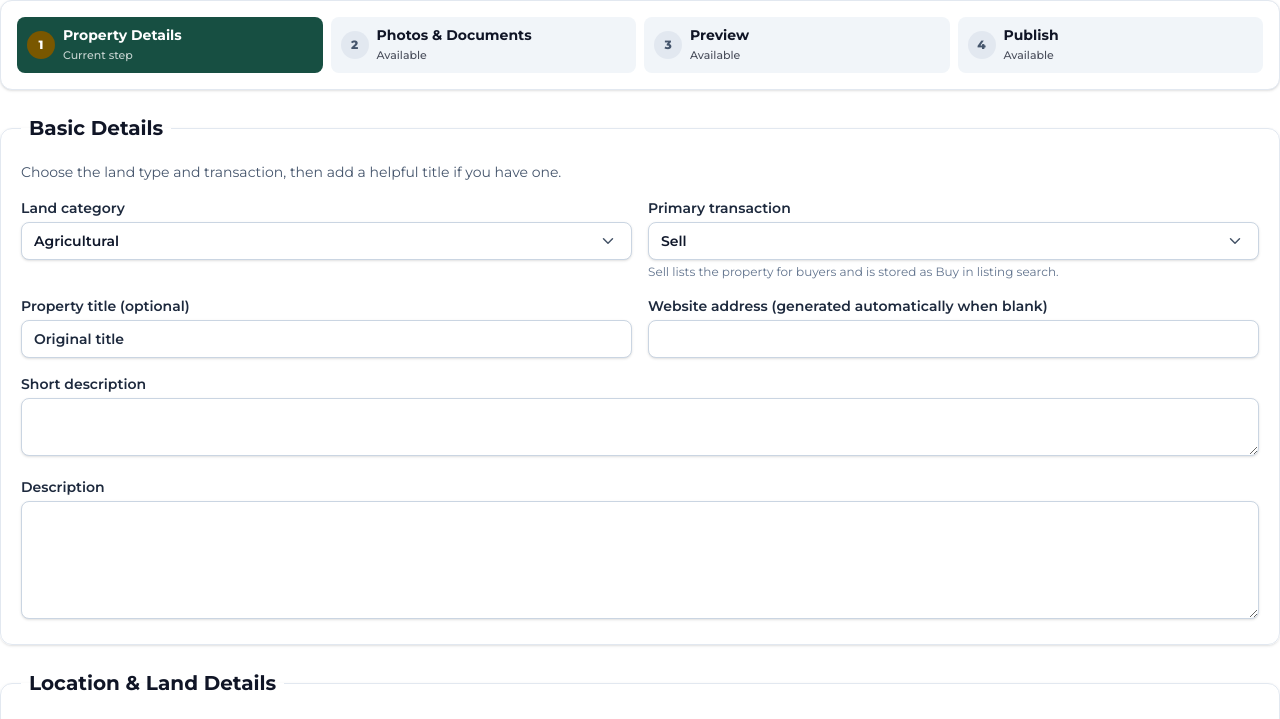
Test case: PropertyDraftForm › blocks workflow section navigation while the edit form is dirty
Type " changed" into the field labelled "Property title (optional)" at (326, 339), box x1=21 y1=320 x2=632 y2=358
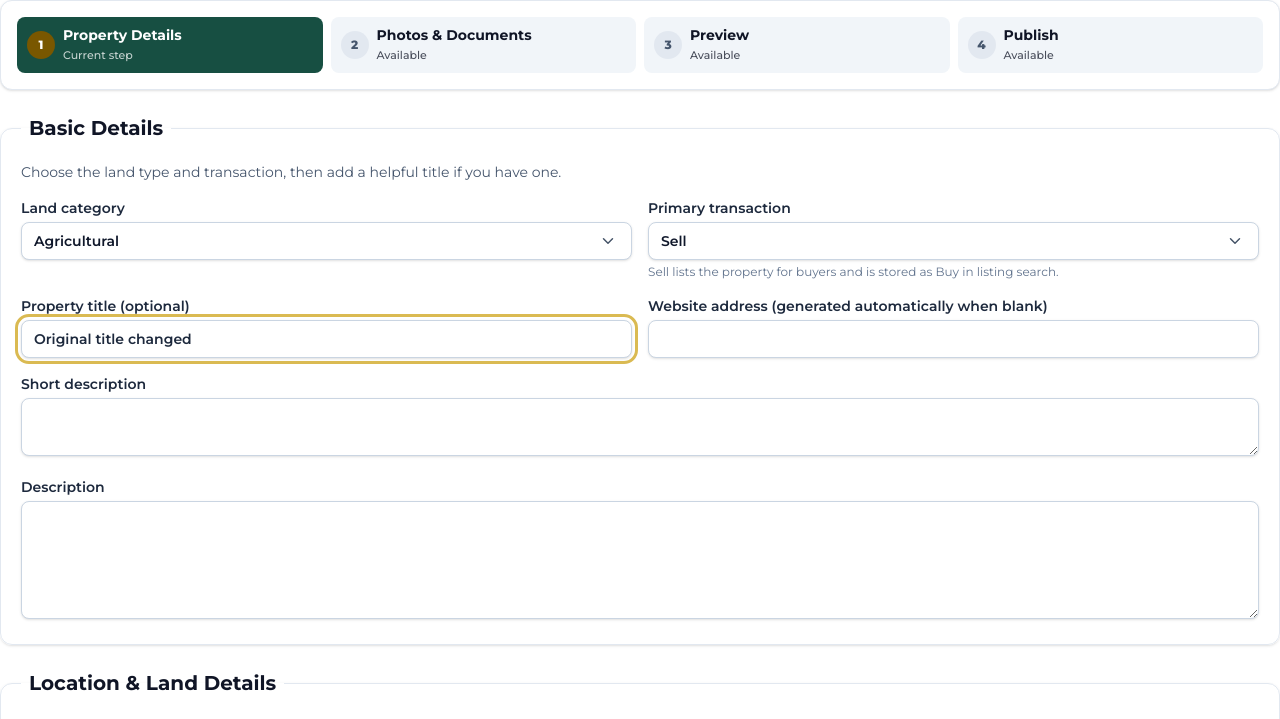
Click the link named "Photos & DocumentsAvailable" at (483, 45), box x1=330 y1=17 x2=636 y2=73
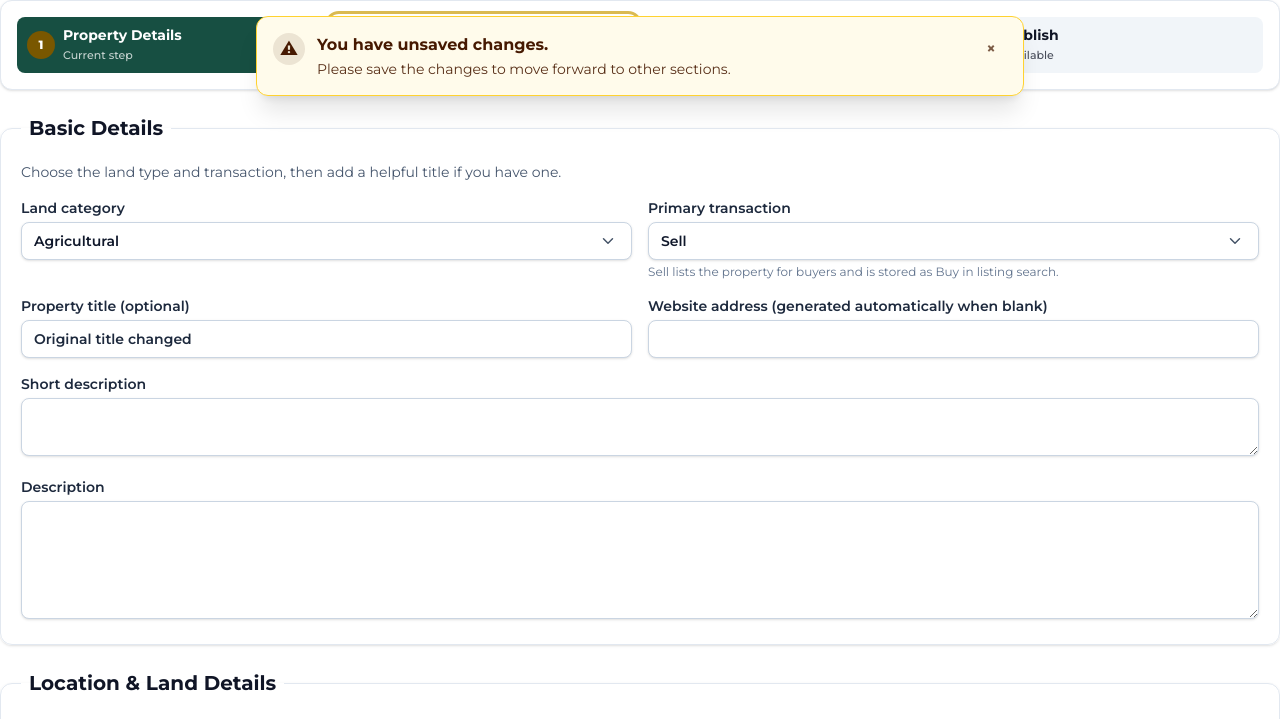
Expected: the message shows "You have unsaved changes", x1=317 y1=35 x2=548 y2=54
Expected: the message shows "Please save the changes to move forward to other sections.", x1=317 y1=60 x2=731 y2=78
